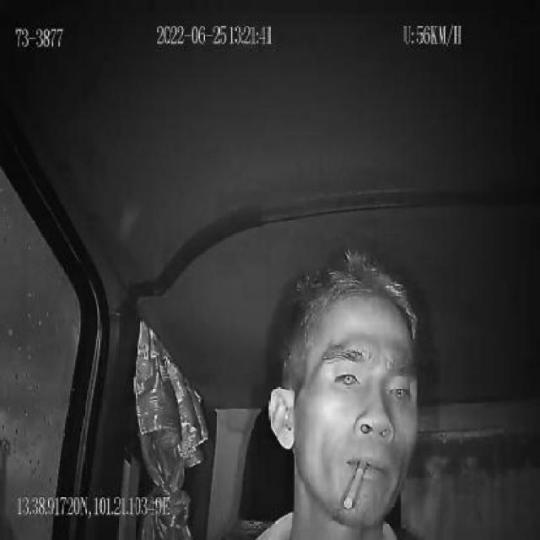smoking: (346, 459, 368, 510)
